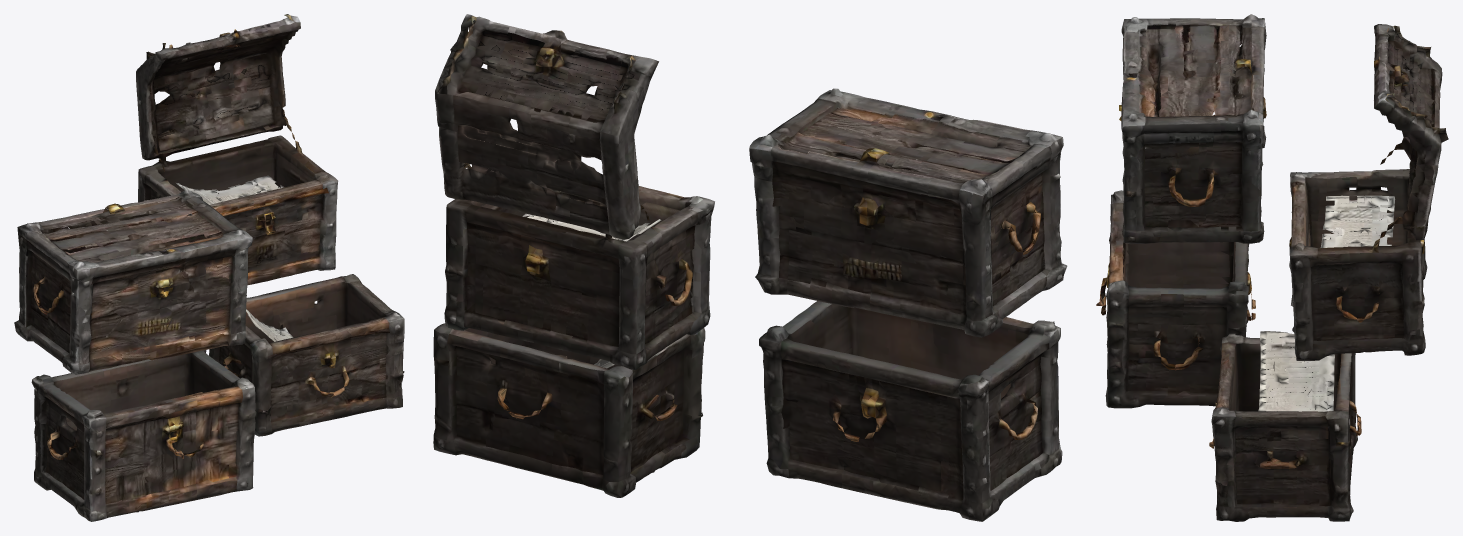
Rendered from crate.glb.
3 renders of one model, left to right at view 1: azimuth 30°, elevation 25°; view 2: azimuth 150°, elevation 25°; view 3: azimuth 270°, elevation 25°, orthographic. The views are drawn at different scales.
Parts seen in each view (by area): view 1: crate; view 2: crate; view 3: crate.
Part boxes in pixels (x1,y1,x2,y2): crate: [14, 14, 404, 521]; crate: [433, 14, 1067, 521]; crate: [1096, 14, 1448, 521].
Bounding box in the file's own units: 0.9743 × 0.865 × 0.6735.
Materials: 1 (1 with a texture image).
